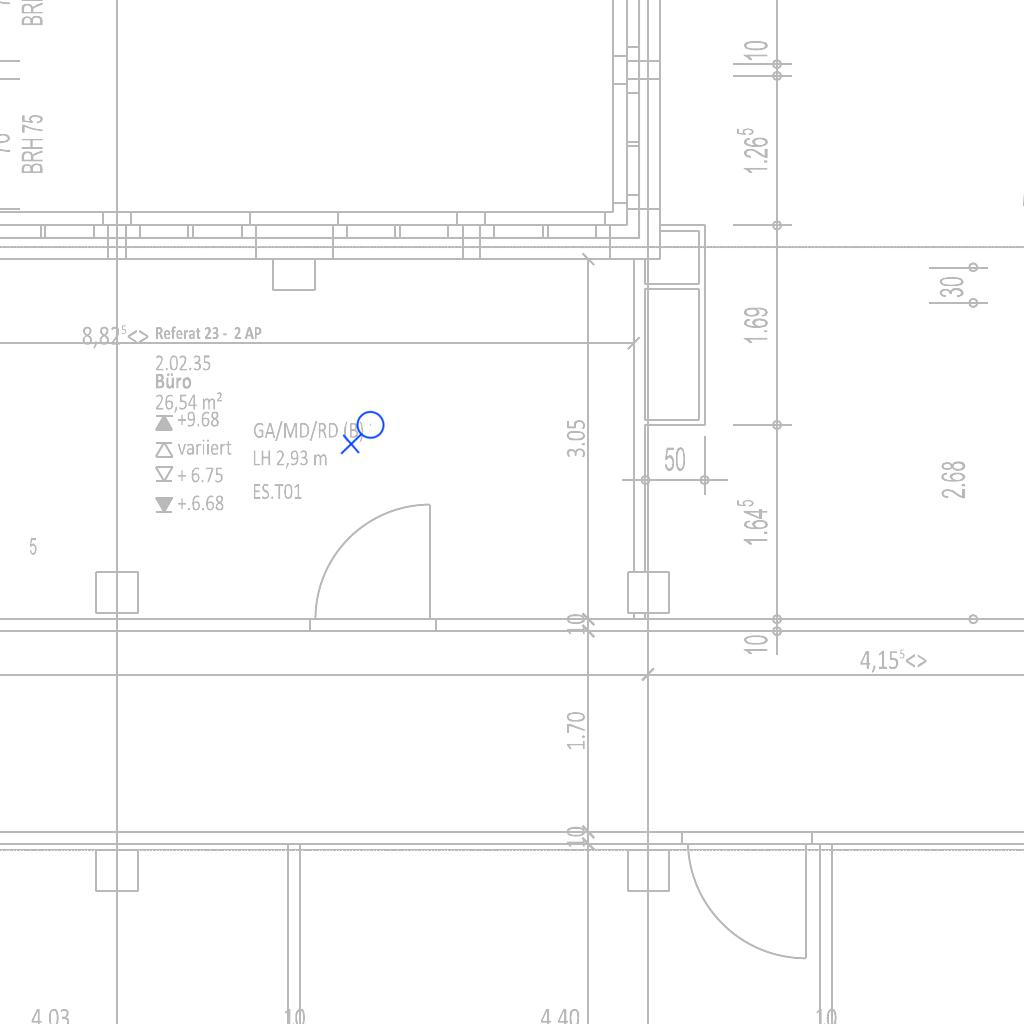Elektroanschluss_allgemein_230V_Geraeteanschlussdose_230V: (340, 410, 389, 457)
